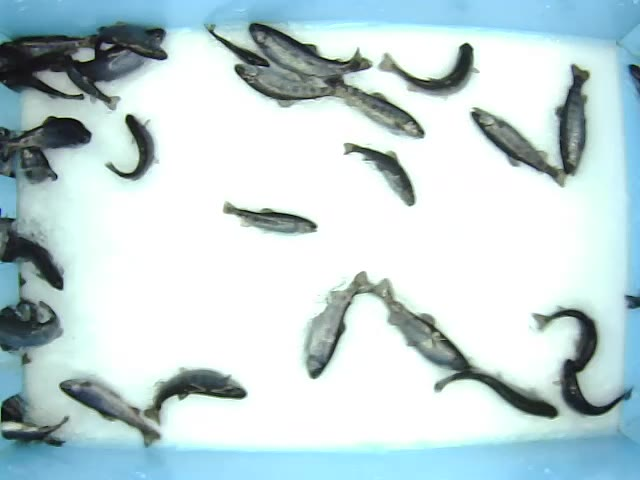fish: (366, 277, 476, 375), (303, 270, 379, 382), (468, 106, 569, 188), (57, 375, 163, 449), (247, 20, 375, 78), (321, 76, 427, 140), (432, 371, 560, 422), (142, 365, 248, 426), (375, 41, 481, 101), (233, 62, 347, 109), (551, 358, 635, 419), (341, 140, 417, 207), (554, 62, 592, 177), (533, 307, 599, 373), (103, 111, 161, 183), (221, 201, 319, 236), (201, 21, 271, 68)
